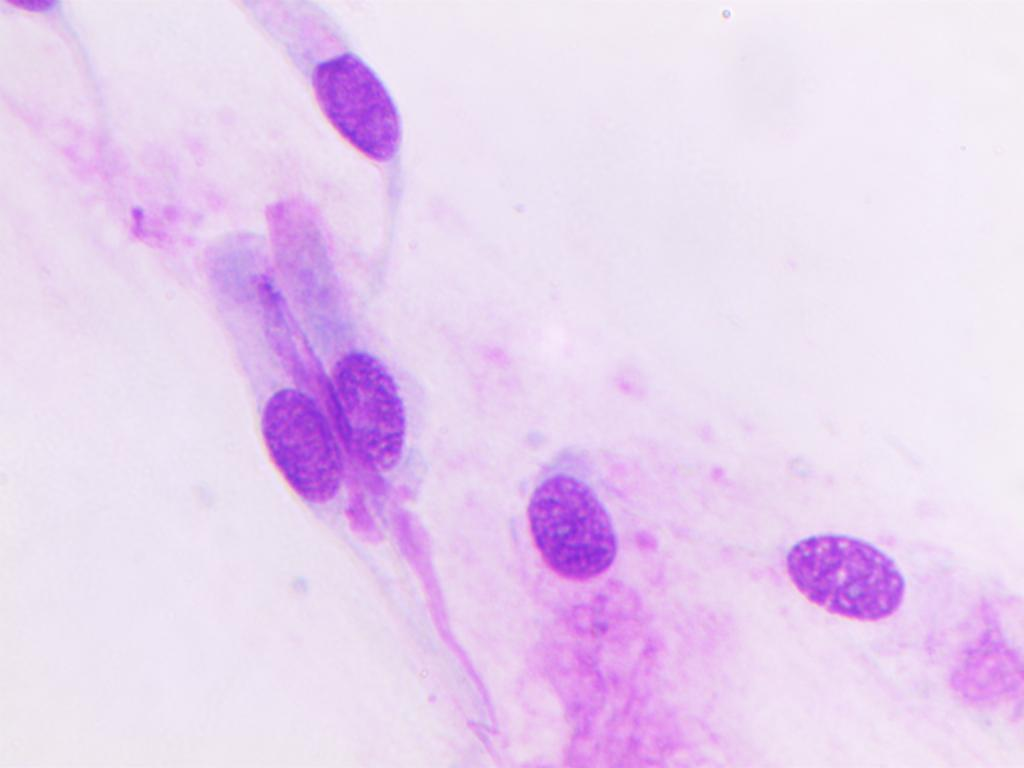ciliated: (261, 196, 418, 524), (191, 222, 345, 536), (232, 0, 448, 176)
epithelial: (495, 466, 677, 749), (713, 486, 943, 660)
